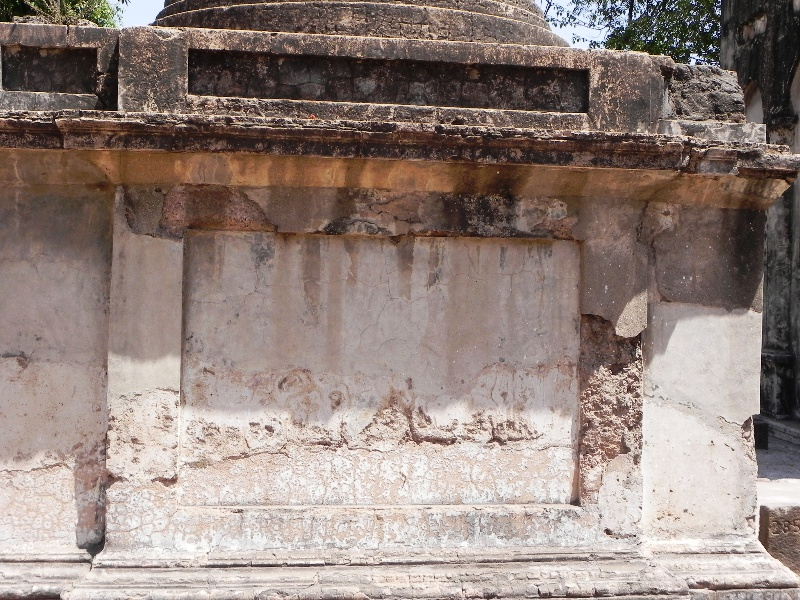Spalling: (569, 299, 650, 489), (160, 179, 296, 242)
